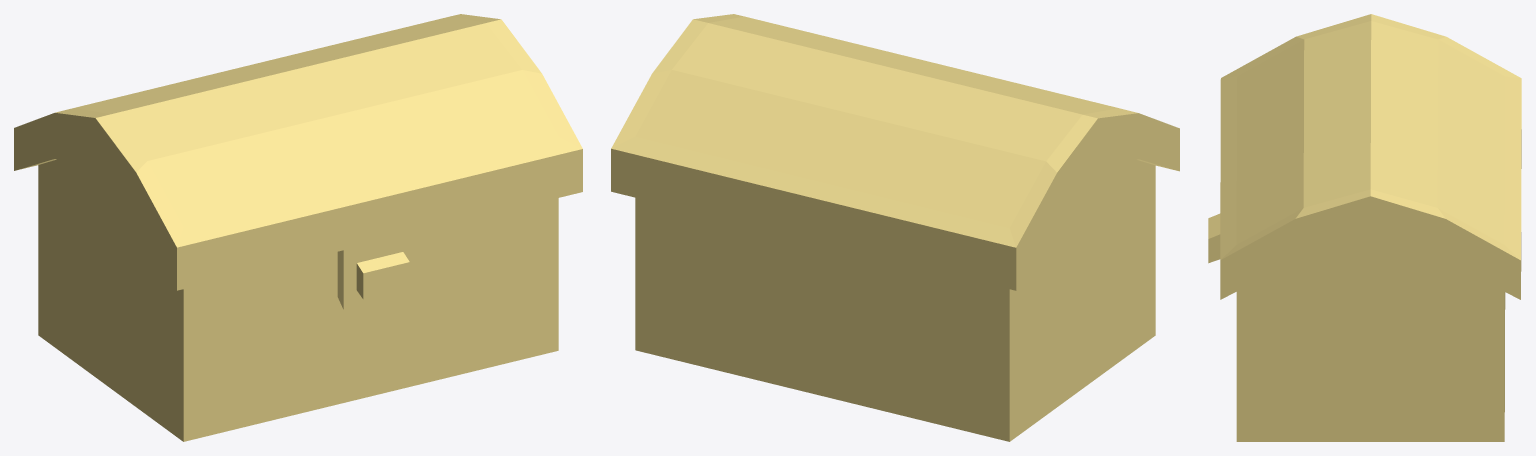
The model's file is BookShelf.003.fbx.
The picture shows the model from 3 angles, left to right: view 1: azimuth 30°, elevation 25°; view 2: azimuth 150°, elevation 25°; view 3: azimuth 270°, elevation 25°; orthographic projection. The views are drawn at different scales.
Visible parts, largest first — view 1: BookShelf.003; view 2: BookShelf.003; view 3: BookShelf.003.
Boxes of the visible parts, x1,y1,x2,y2 form: BookShelf.003: [14, 14, 582, 441]; BookShelf.003: [611, 14, 1179, 441]; BookShelf.003: [1208, 14, 1521, 441].
Size of the model in its own units: 37.99 by 24.53 by 27.57.
